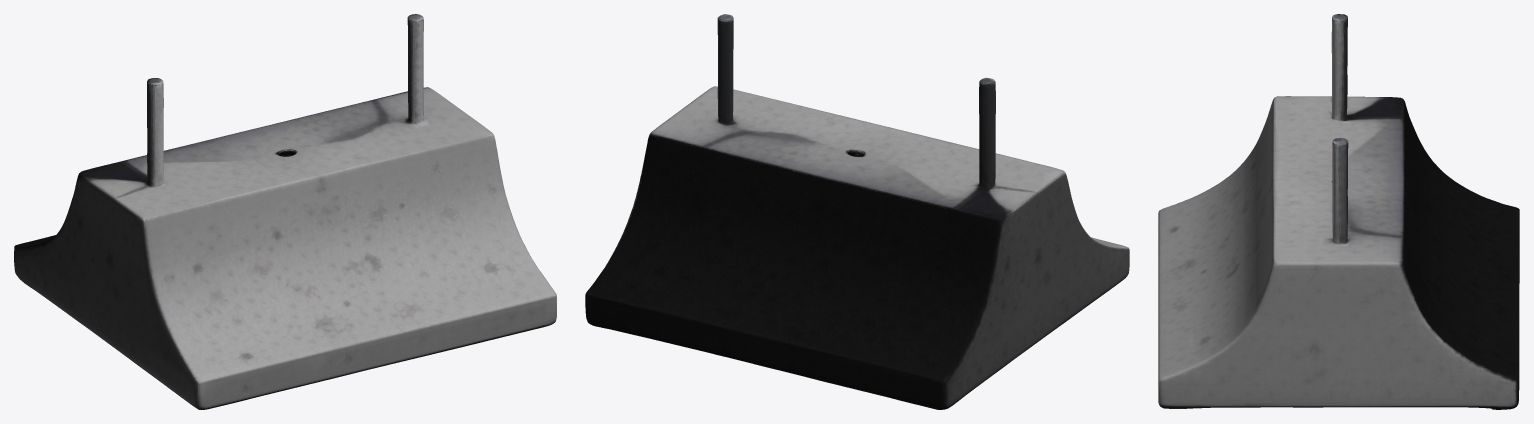
The model's file is asset.glb.
3 views of the same model, side by side, from view 1: azimuth 30°, elevation 25°; view 2: azimuth 150°, elevation 25°; view 3: azimuth 270°, elevation 25° (orthographic). The views are drawn at different scales.
Visible parts, largest first — view 1: world; view 2: world; view 3: world.
Part boxes in pixels (<box>): world: <box>14,14,556,409</box>; world: <box>585,14,1129,409</box>; world: <box>1158,14,1519,409</box>.
Bounding box in the file's own units: 0.5326 × 0.3581 × 0.4729.
Materials: 1 (1 with a texture image).
